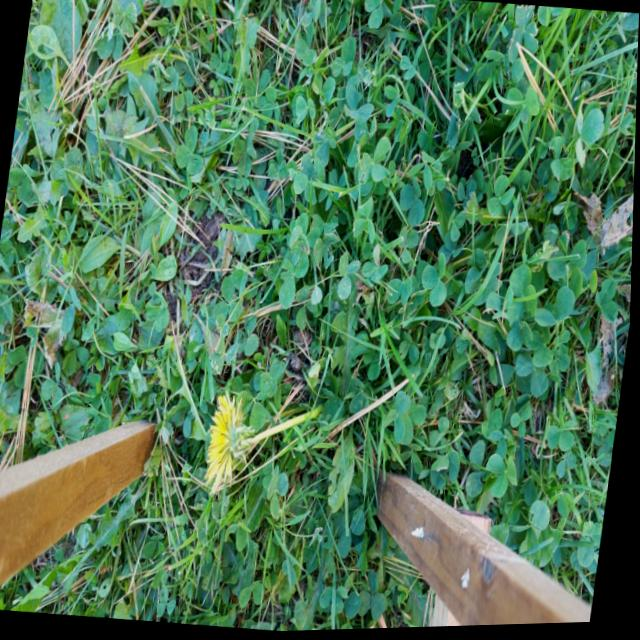base: (308, 389, 332, 433)
flower: (202, 390, 256, 498)
